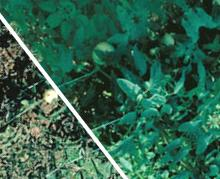Tomato leaf bacterial spot: (107, 65, 148, 108), (102, 0, 142, 40), (182, 56, 220, 98), (174, 109, 207, 142), (174, 9, 203, 40)
